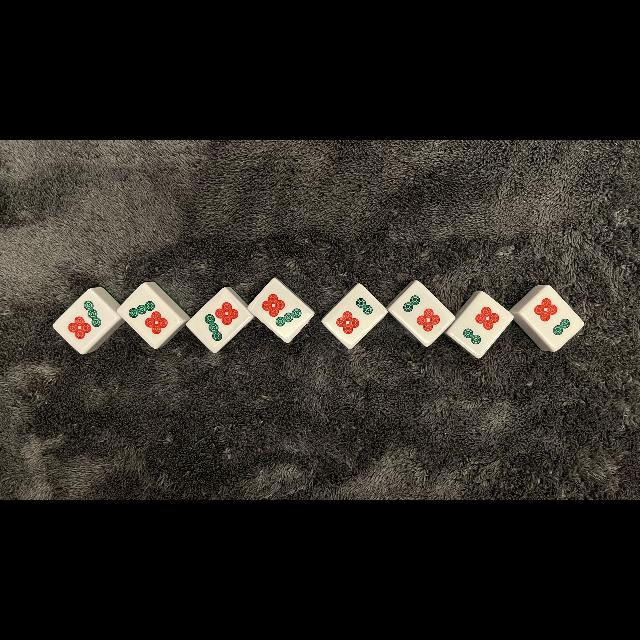d6: (526, 292, 578, 342), (396, 288, 444, 338), (456, 299, 504, 349), (330, 294, 380, 336)
d7: (253, 286, 305, 334), (124, 291, 172, 341), (61, 296, 112, 342), (197, 296, 243, 344)
